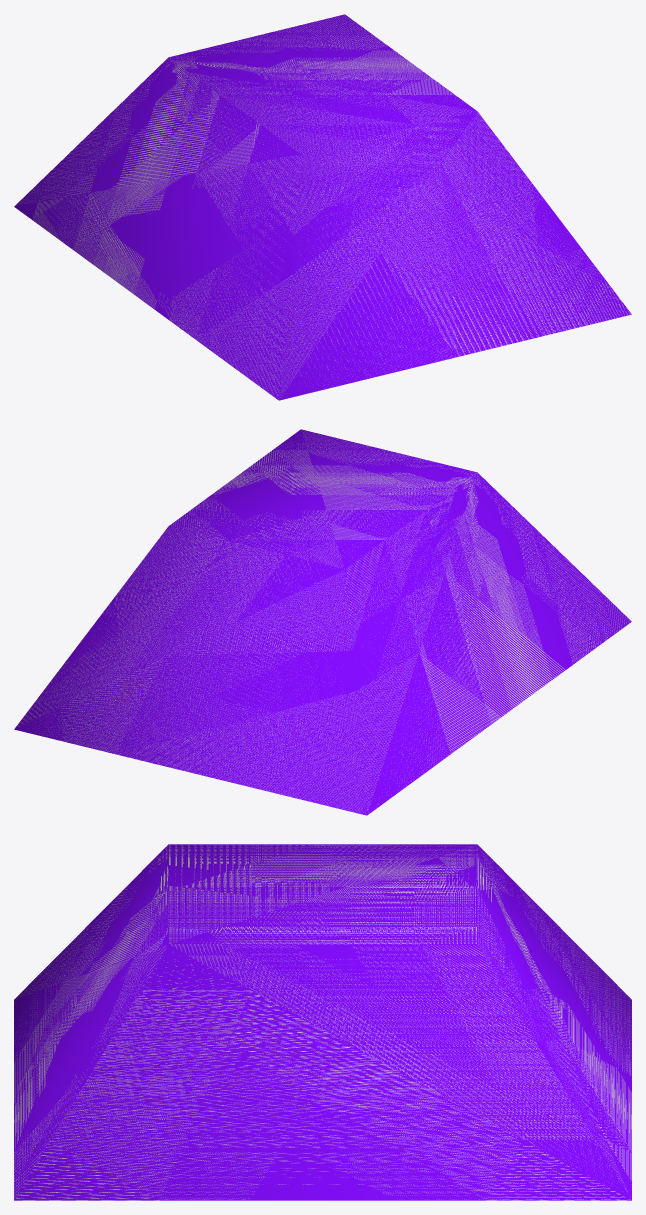
The model's file is original-25.obj.
The picture shows the model from 3 angles, top to bottom: view 1: azimuth 30°, elevation 25°; view 2: azimuth 150°, elevation 25°; view 3: azimuth 270°, elevation 25°; orthographic projection. The views are drawn at different scales.
Visible parts, largest first — view 1: Component_5_20/Component_5/mesh4/mesh4-geometry#mesh4-geometry; view 2: Component_5_20/Component_5/mesh4/mesh4-geometry#mesh4-geometry; view 3: Component_5_20/Component_5/mesh4/mesh4-geometry#mesh4-geometry.
Part boxes in pixels (x1,y1,x2,y2): Component_5_20/Component_5/mesh4/mesh4-geometry#mesh4-geometry: (14,14,631,400); Component_5_20/Component_5/mesh4/mesh4-geometry#mesh4-geometry: (14,429,631,815); Component_5_20/Component_5/mesh4/mesh4-geometry#mesh4-geometry: (14,844,631,1200).
Bounding box in the file's own units: 0.0787 × 0.0376 × 0.1023.
